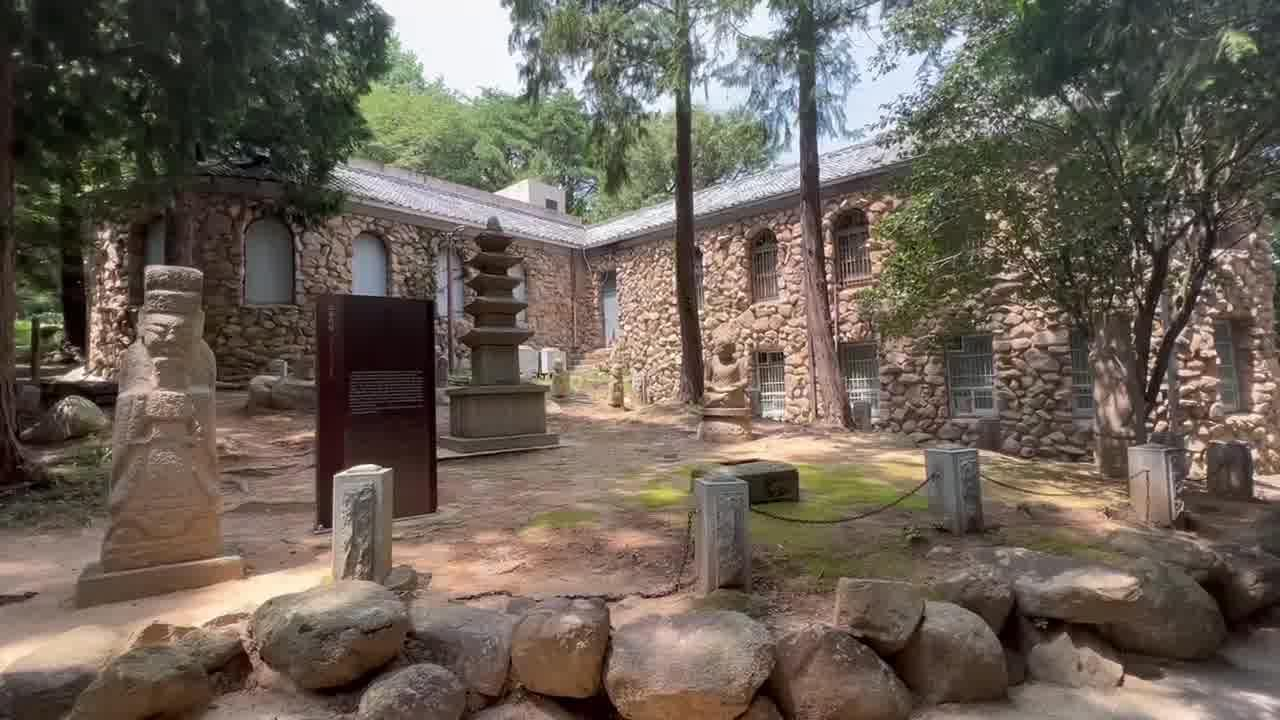building: (320, 158, 668, 418)
